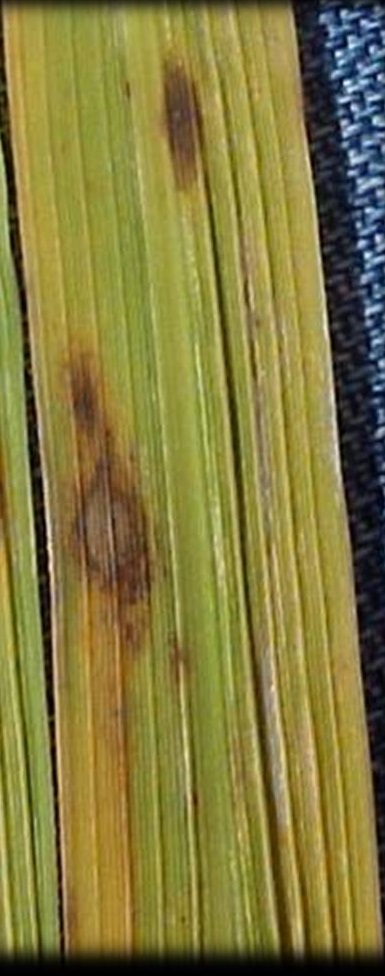Bercak Coklat: (61, 447, 162, 618), (150, 30, 223, 208), (52, 336, 118, 449)
